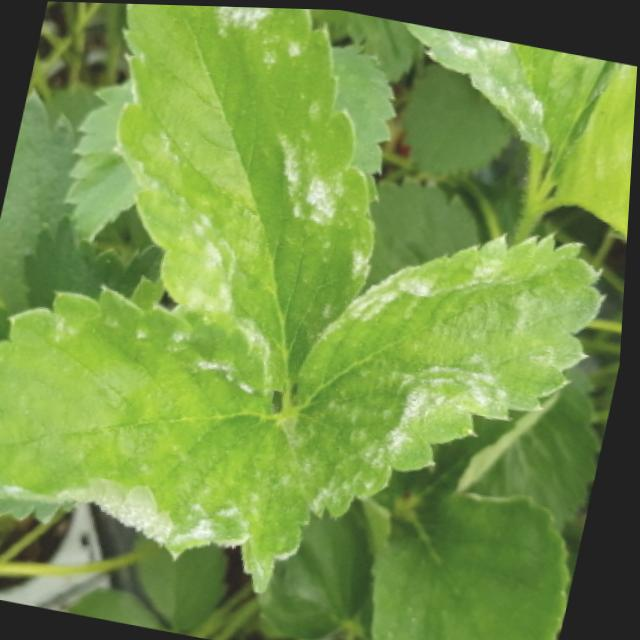Powdery Mildew Leaf: (112, 3, 378, 389), (0, 282, 319, 593), (292, 226, 610, 517), (399, 18, 621, 180)
